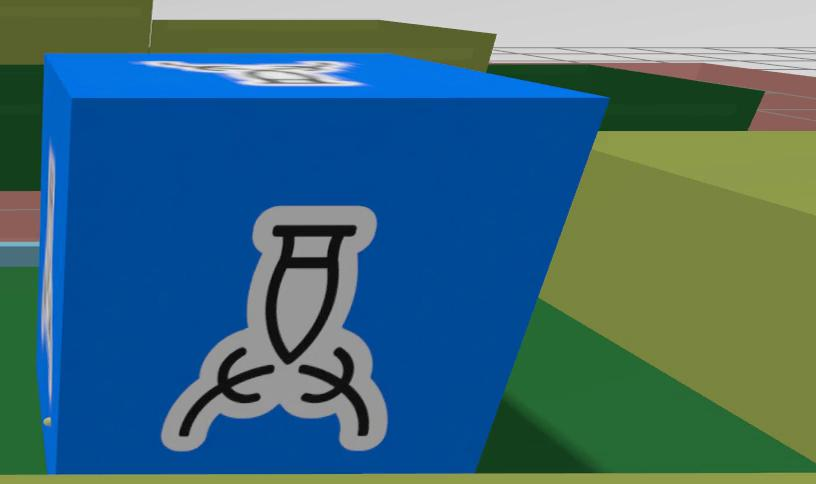KFS_REAL: (36, 47, 603, 473), (161, 206, 387, 452), (137, 61, 360, 86)
